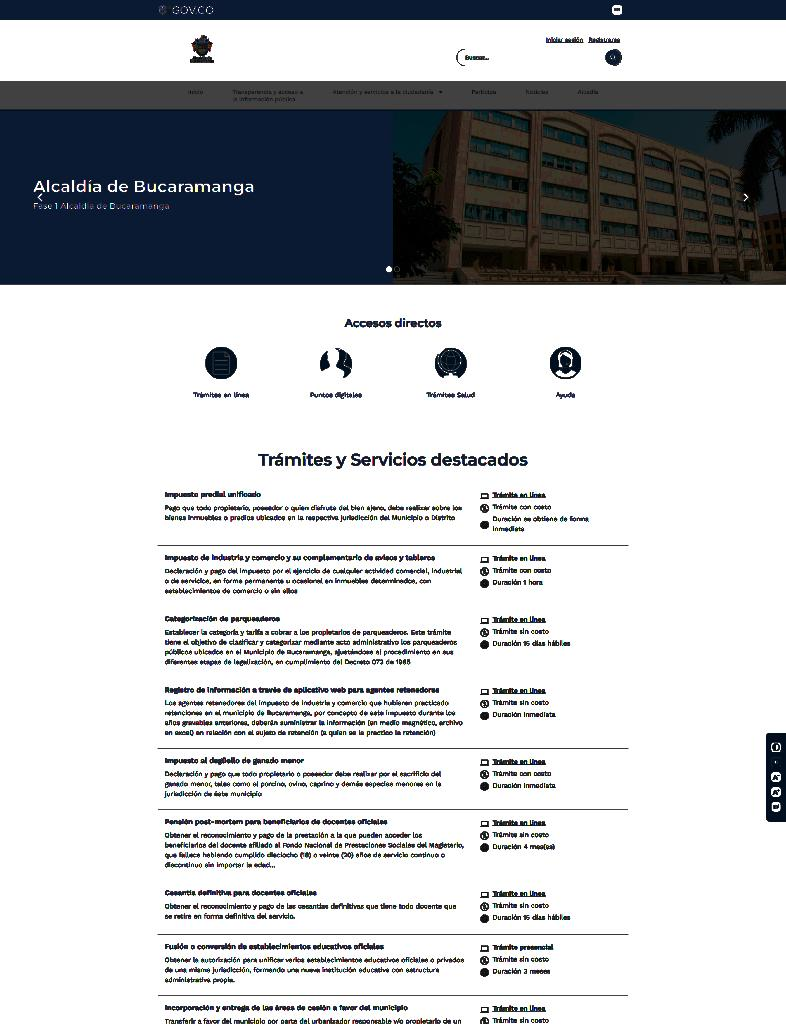banner principal: (1, 108, 786, 286)
barra accesibilidad: (767, 732, 786, 821)
barra govco: (156, 0, 626, 20)
btn atencion ciudadano: (332, 87, 446, 97)
btn buscador: (457, 48, 623, 66)
btn idiomas: (613, 6, 623, 14)
btn inicio: (186, 87, 206, 95)
btn noticias: (522, 86, 552, 96)
btn participa: (470, 86, 497, 98)
btn registro: (546, 36, 584, 46), (588, 36, 622, 44)
btn tramites: (252, 449, 536, 471)
btn transpariencia: (229, 86, 305, 104)
logogovco: (158, 2, 214, 16)
menu principal: (186, 83, 610, 105)
